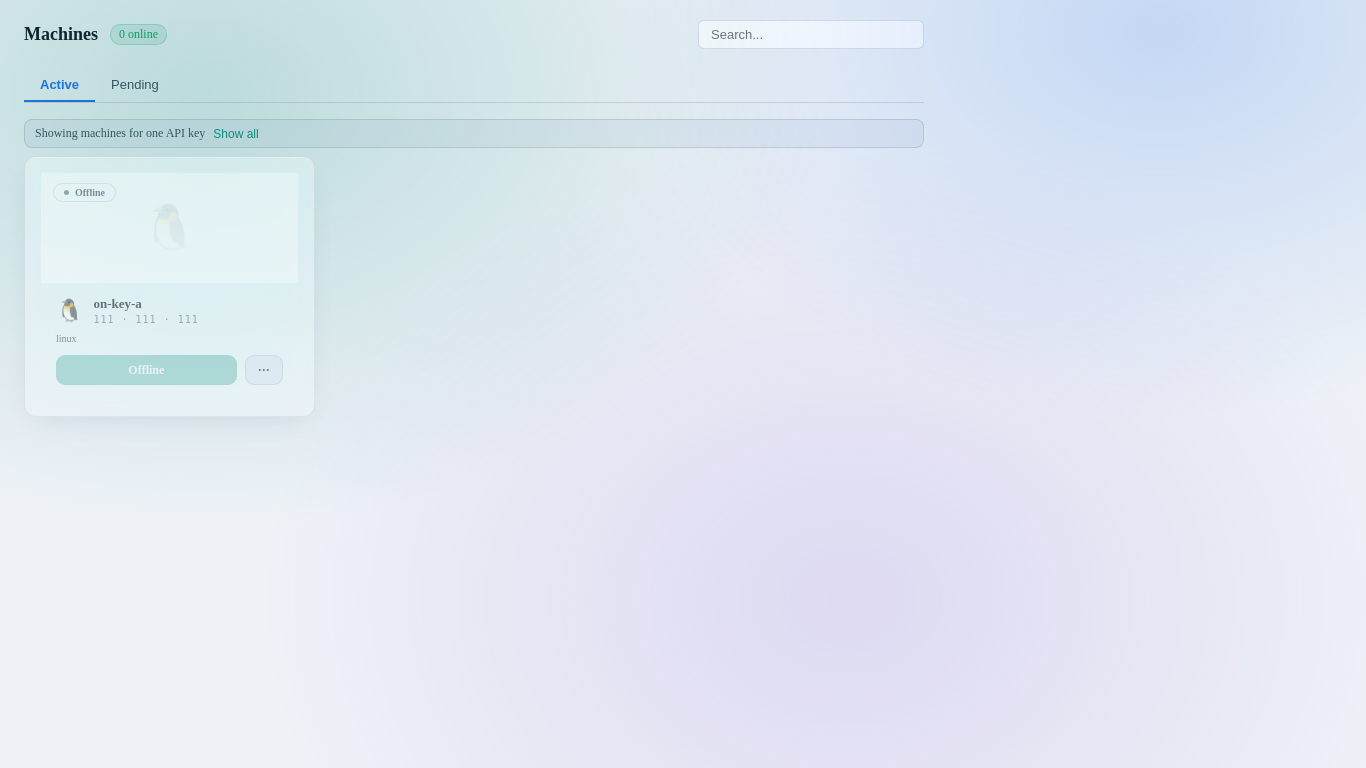
MachinesPage key filter › shows everything again when the filter is cleared
Click the button with test id "key-filter-clear": (236, 134) left=213, top=126, right=259, bottom=140
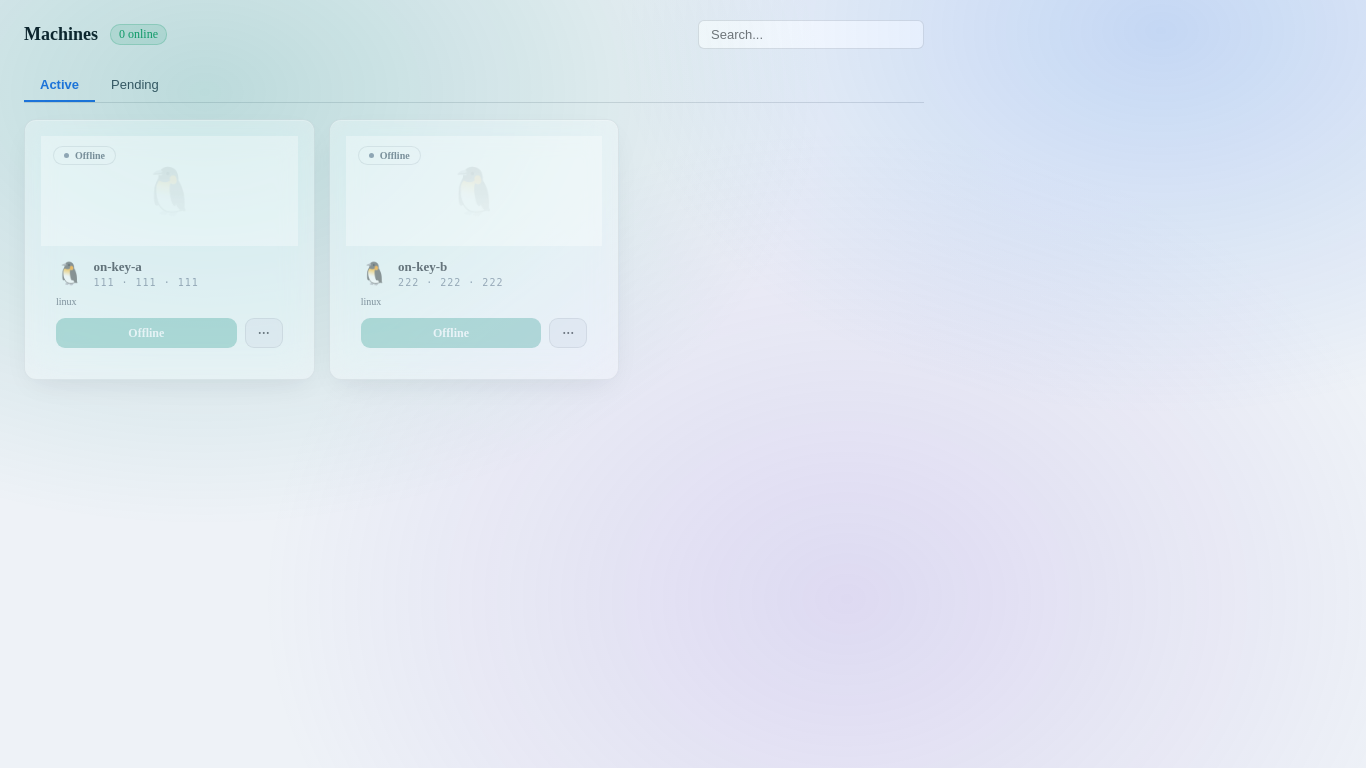
Expected: the text "on-key-b" is shown, left=398, top=259, right=447, bottom=274
